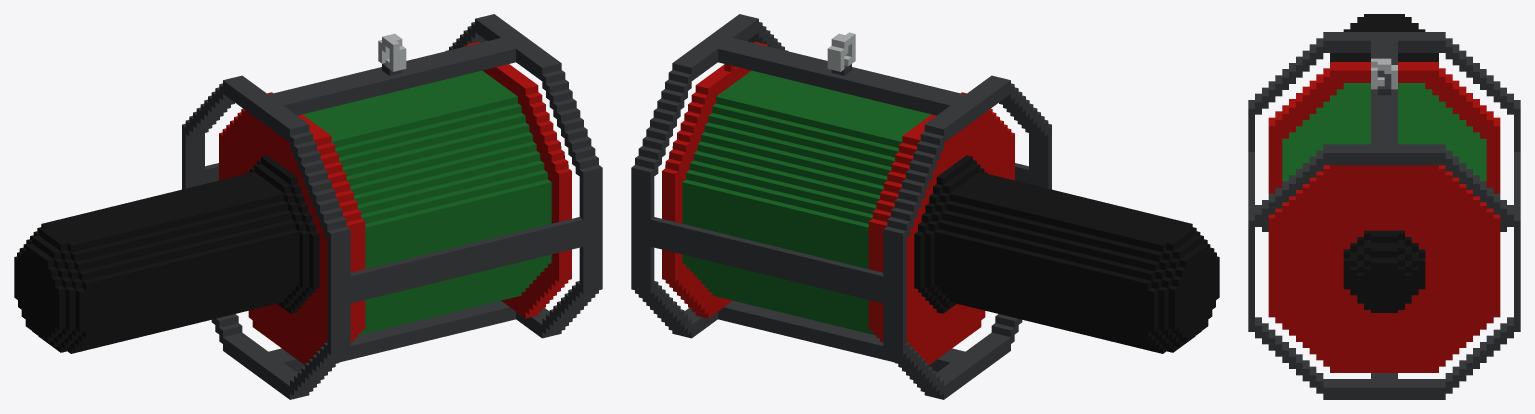
File: plastichoboreel.glb
3 views of the same model, side by side, from view 1: azimuth 30°, elevation 25°; view 2: azimuth 150°, elevation 25°; view 3: azimuth 270°, elevation 25° (orthographic). The views are drawn at different scales.
Visible parts, largest first — view 1: plastichoboreel:compound; view 2: plastichoboreel:compound; view 3: plastichoboreel:compound.
Part boxes in pixels (x1,y1,x2,y2): plastichoboreel:compound: (14,14,602,399); plastichoboreel:compound: (631,14,1219,399); plastichoboreel:compound: (1248,14,1520,399).
Size of the model in its own units: 0.16 by 0.09 by 0.08.
